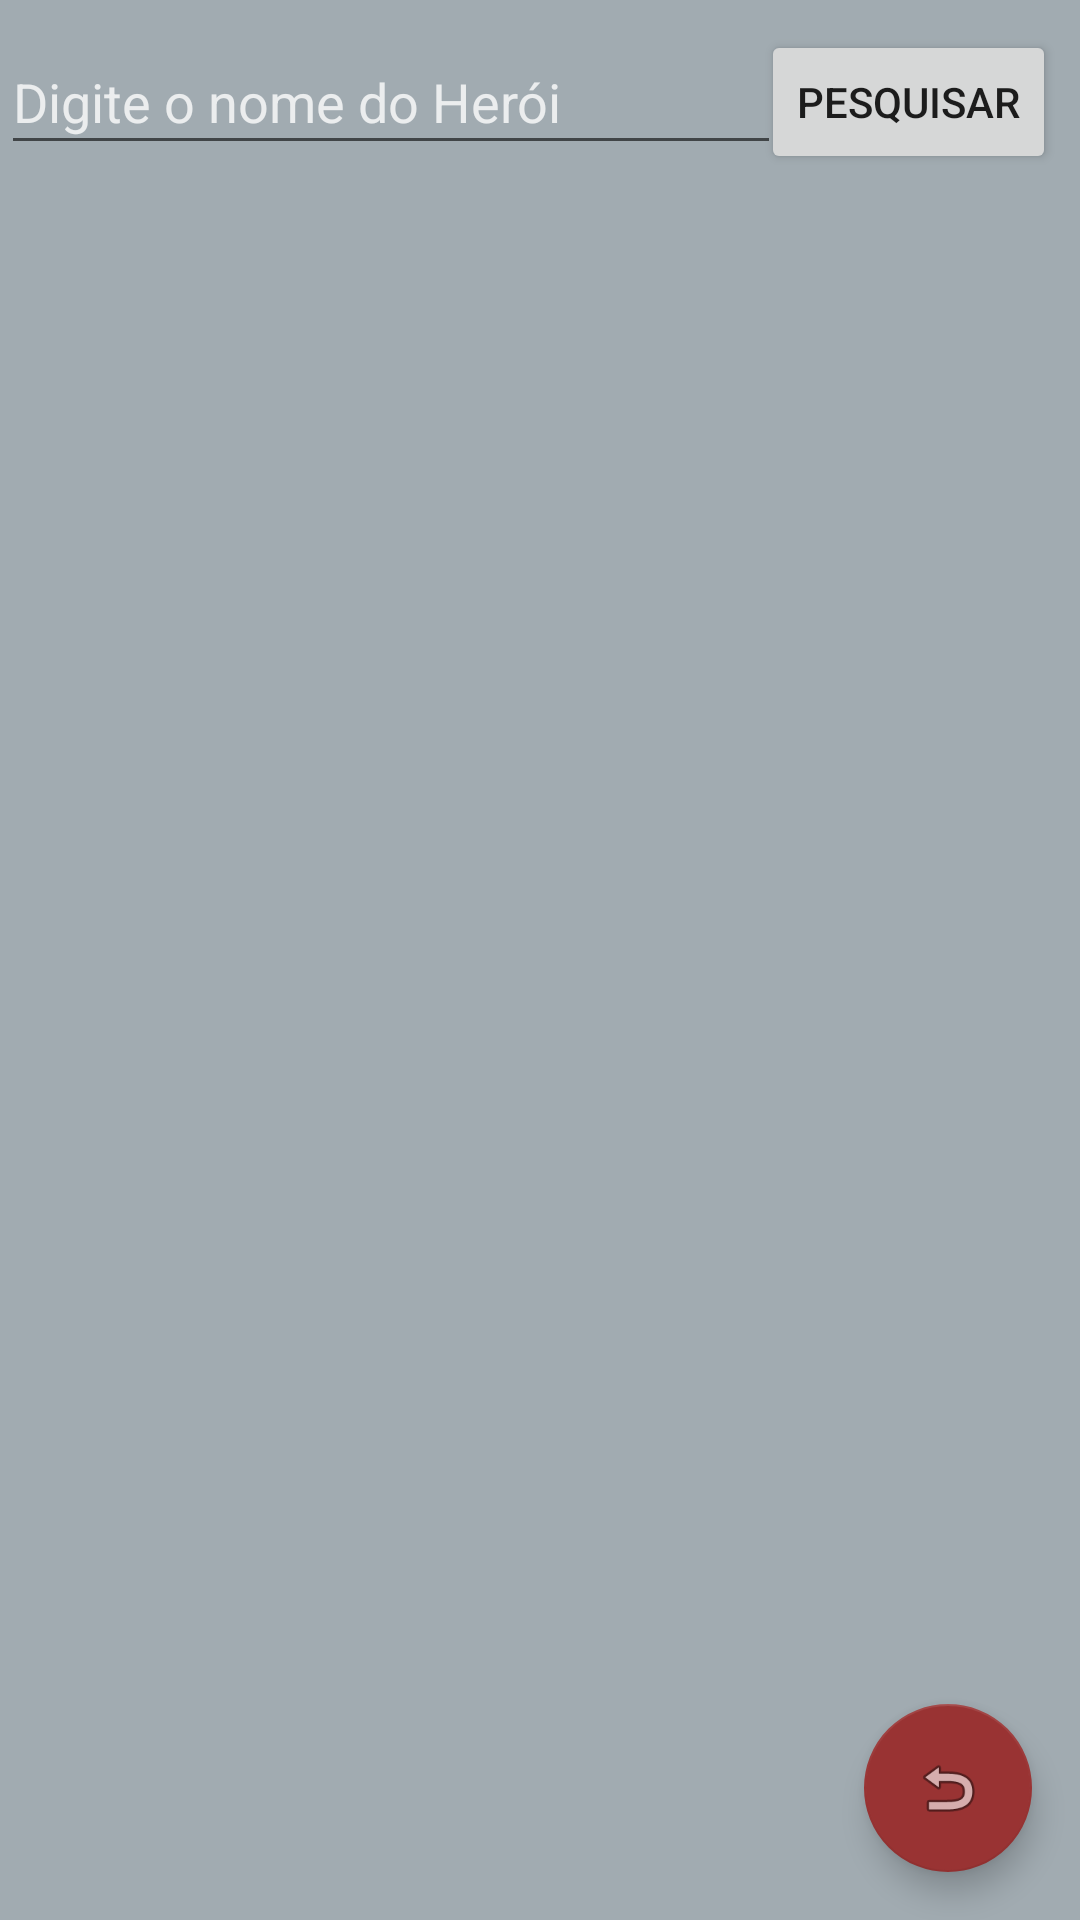

Locate icon controls on the screen. Image size 1080*1920, boxes as rect(x1, y1, x2, y2).
revert: rect(864, 1704, 1032, 1872)
